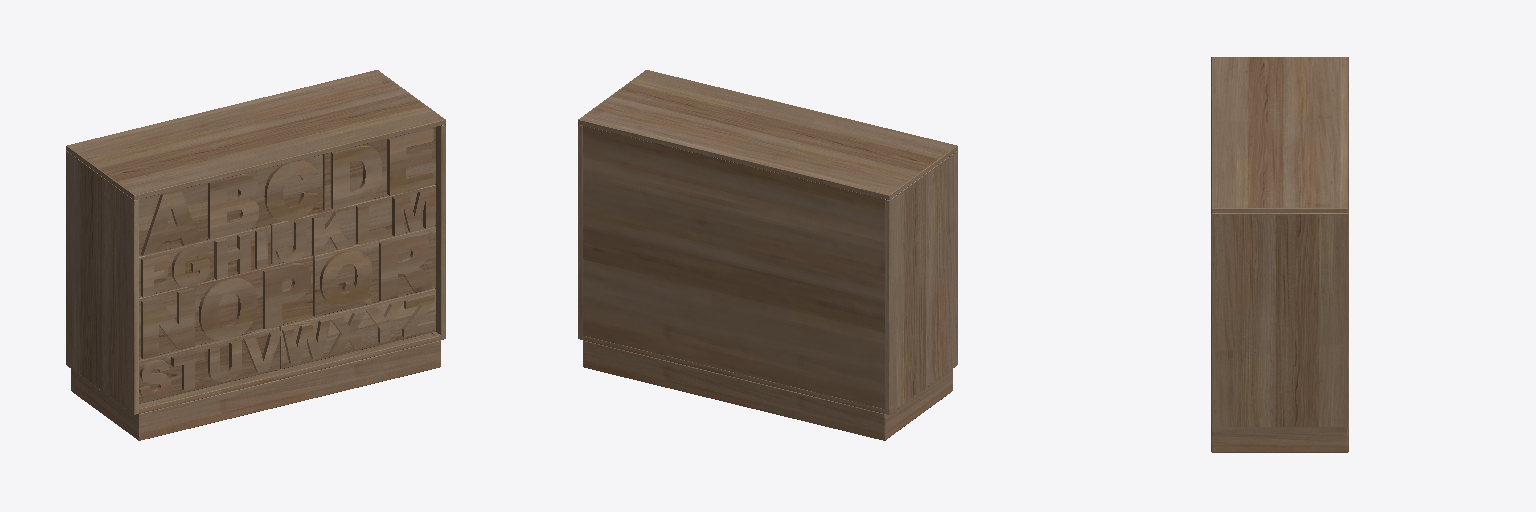
The picture shows the model from 3 angles: view 1: azimuth 30°, elevation 25°; view 2: azimuth 150°, elevation 25°; view 3: azimuth 270°, elevation 25°; orthographic projection.
Visible parts, largest first — view 1: solid_001; view 2: solid_001; view 3: solid_001.
Part boxes in pixels (bbox=[...]): solid_001: bbox=[66, 70, 445, 440]; solid_001: bbox=[578, 70, 957, 440]; solid_001: bbox=[1211, 57, 1348, 452].
Size of the model in its own units: 1.2 by 0.908 by 0.457.
Materials: 1 (1 with a texture image).